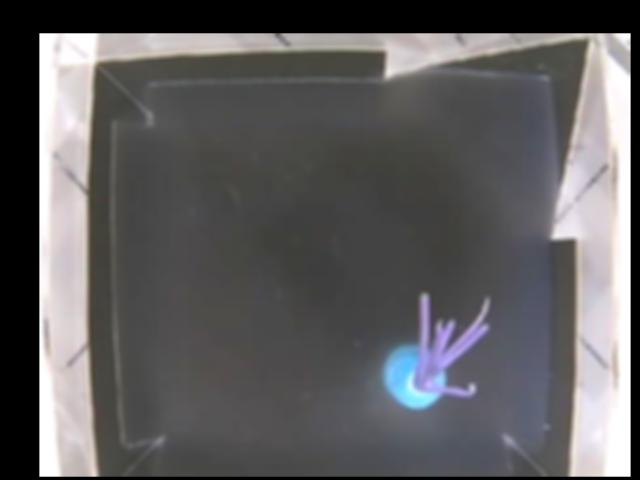Carrot: (383, 296, 492, 412)
